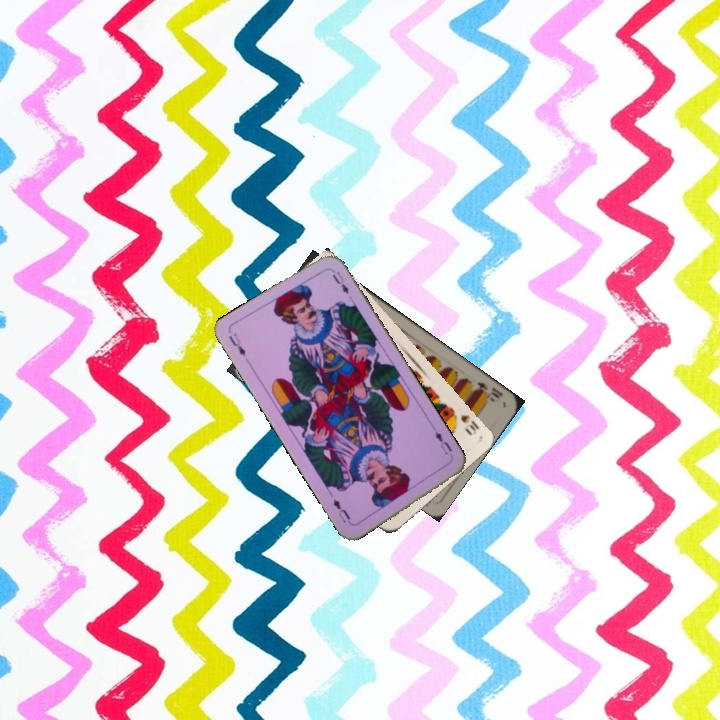E10: (471, 378, 505, 405)
EU: (431, 427, 456, 462), (224, 329, 248, 359)
S10: (447, 407, 482, 438)
